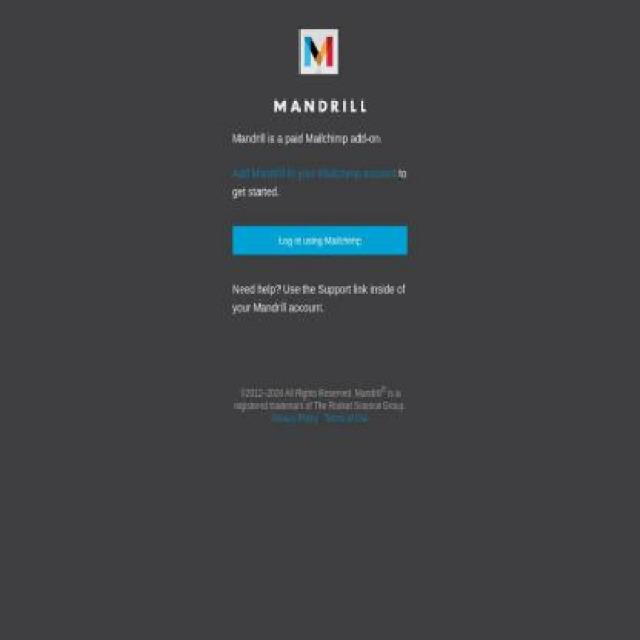button: (220, 29, 420, 112), (232, 227, 408, 256)
